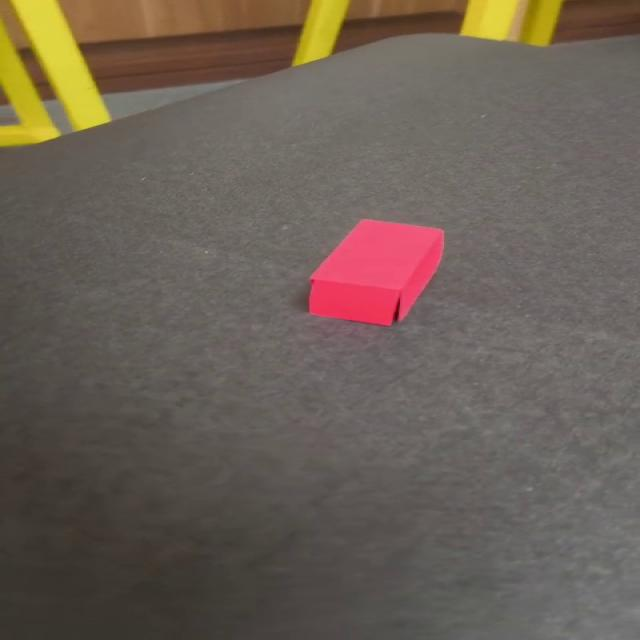red block: (307, 217, 445, 326)
